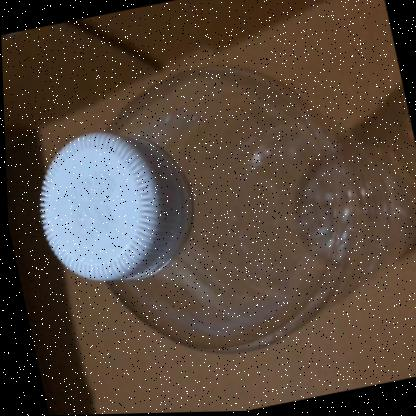bottle cap: (1, 4, 416, 403)
